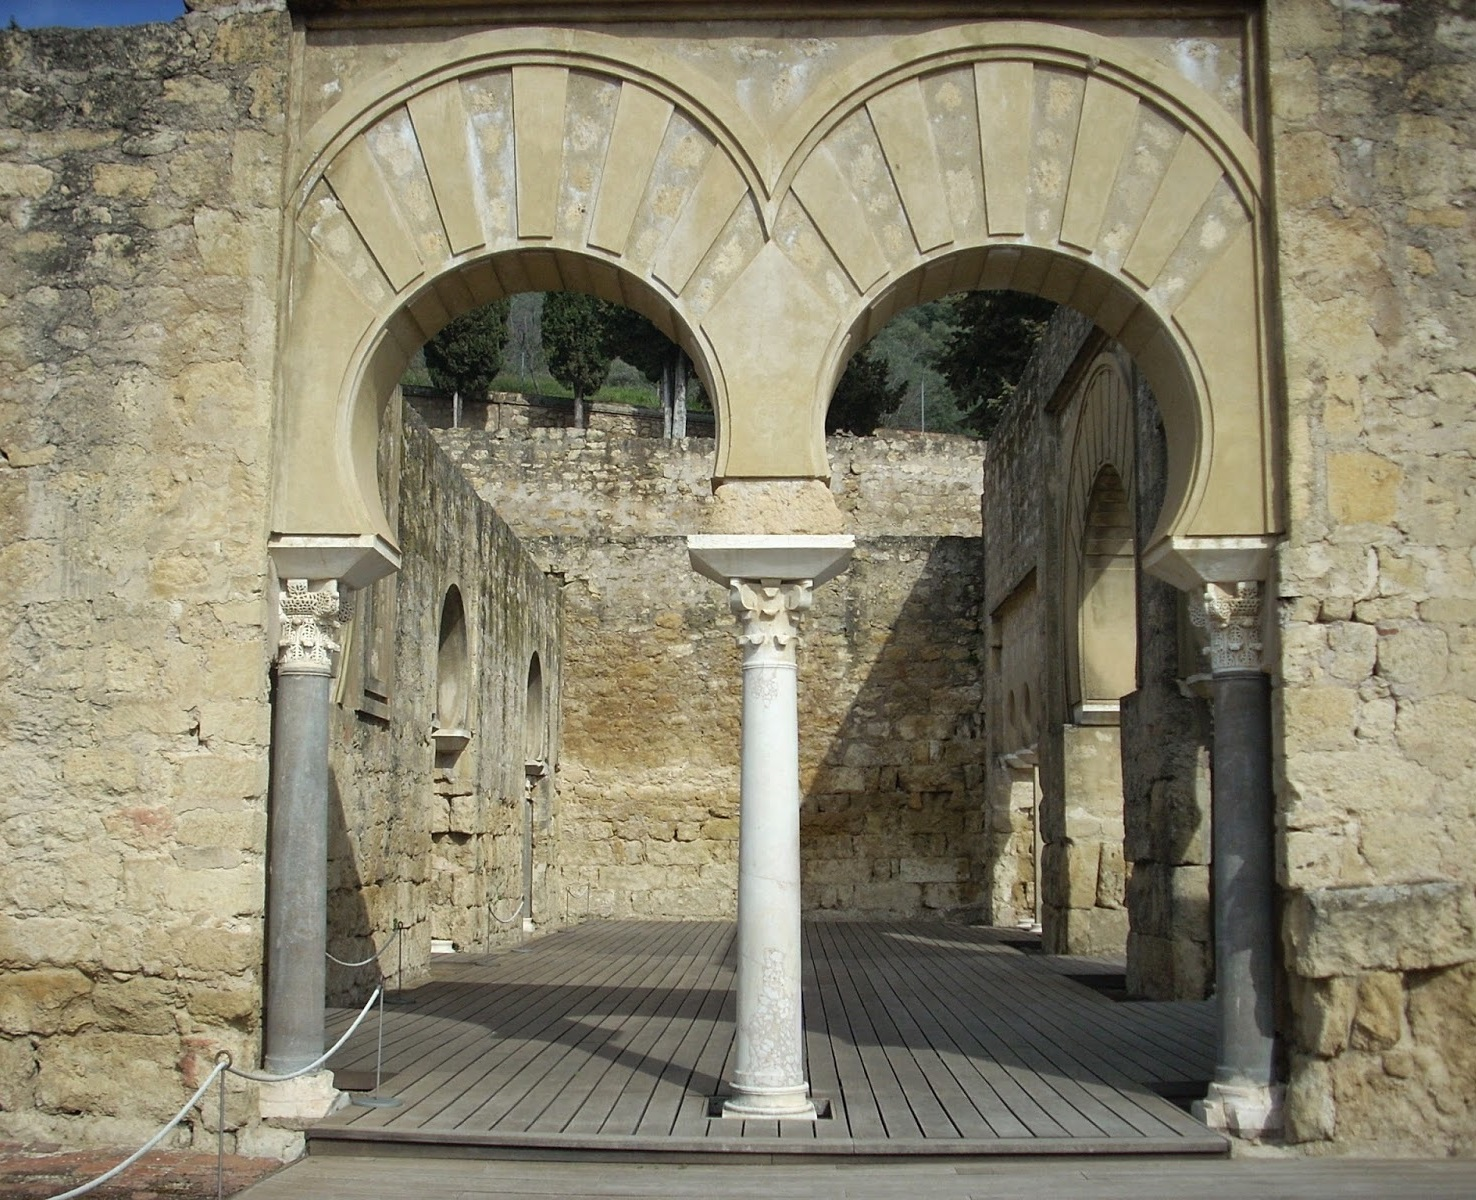arco-herradura: (302, 206, 773, 654), (773, 208, 1248, 649)
